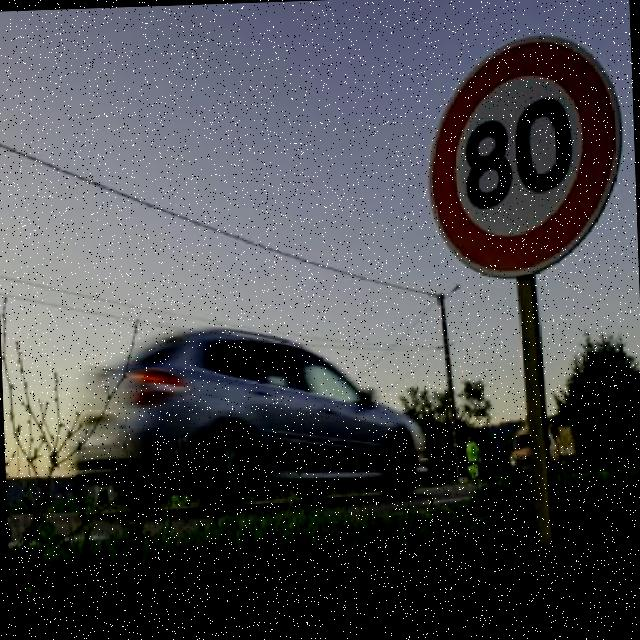Ograniczenie predkosci do 80: (438, 51, 606, 260)
